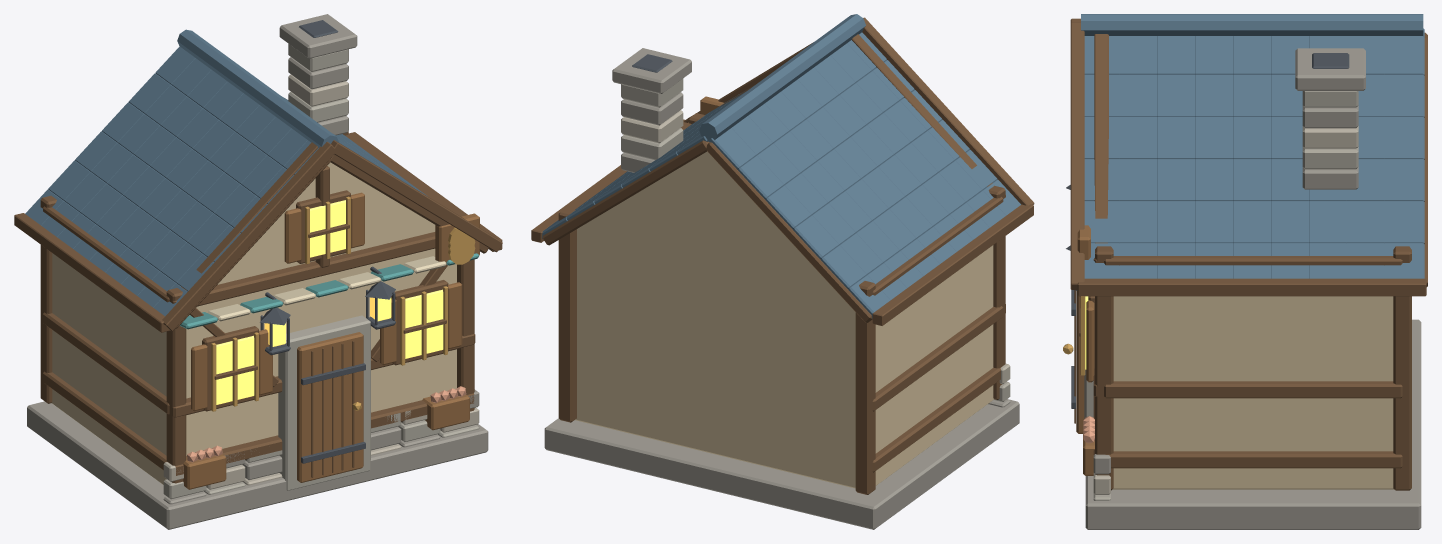
File: shop.glb
3 views of the same model, side by side, from view 1: azimuth 30°, elevation 25°; view 2: azimuth 150°, elevation 25°; view 3: azimuth 270°, elevation 25° (orthographic). The views are drawn at different scales.
Parts seen in each view (by area): view 1: Roof_HV_shop_slate, Structure_HV_shop_plaster, Structure_HV_oak, Facade_HV_door, Structure_HV_stone0, Roof_HV_oak, Facade_HV_amber_glass, Facade_HV_stone1, Facade_HV_oak, Facade_HV_brass, Roof_HV_stone0, Facade_HV_iron (+7 smaller); view 2: Structure_HV_shop_plaster, Roof_HV_shop_slate, Structure_HV_stone0, Structure_HV_oak, Roof_HV_oak, Roof_HV_stone0, Roof_HV_stone1, Roof_HV_stone2; view 3: Roof_HV_shop_slate, Structure_HV_shop_plaster, Structure_HV_oak, Structure_HV_stone0, Roof_HV_oak, Roof_HV_stone0, Facade_HV_door, Roof_HV_stone1, Roof_HV_stone2, Roof_HV_iron, Facade_HV_brass.
Part boxes in pixels (x1=…): Roof_HV_shop_slate: x1=25, y1=29, x2=427, y2=316; Structure_HV_shop_plaster: x1=52, y1=162, x2=456, y2=484; Structure_HV_oak: x1=40, y1=131, x2=475, y2=483; Facade_HV_door: x1=183, y1=192, x2=479, y2=489; Structure_HV_stone0: x1=27, y1=389, x2=488, y2=529; Roof_HV_oak: x1=14, y1=132, x2=502, y2=332; Facade_HV_amber_glass: x1=216, y1=200, x2=443, y2=404; Facade_HV_stone1: x1=278, y1=315, x2=370, y2=490; Facade_HV_oak: x1=202, y1=190, x2=448, y2=477; Facade_HV_brass: x1=211, y1=196, x2=475, y2=411; Roof_HV_stone0: x1=279, y1=14, x2=357, y2=135; Facade_HV_iron: x1=260, y1=266, x2=395, y2=463; Structure_HV_shop_plaster: x1=575, y1=151, x2=993, y2=488; Roof_HV_shop_slate: x1=542, y1=14, x2=1020, y2=318; Structure_HV_stone0: x1=544, y1=399, x2=1019, y2=529; Structure_HV_oak: x1=558, y1=34, x2=1005, y2=494; Roof_HV_oak: x1=531, y1=17, x2=1034, y2=325; Roof_HV_stone0: x1=612, y1=48, x2=691, y2=172; Roof_HV_stone1: x1=621, y1=78, x2=683, y2=160; Roof_HV_stone2: x1=621, y1=110, x2=683, y2=143; Roof_HV_shop_slate: x1=1081, y1=14, x2=1424, y2=278; Structure_HV_shop_plaster: x1=1112, y1=296, x2=1393, y2=489; Structure_HV_oak: x1=1093, y1=34, x2=1411, y2=490; Structure_HV_stone0: x1=1085, y1=319, x2=1421, y2=529; Roof_HV_oak: x1=1070, y1=18, x2=1427, y2=296; Roof_HV_stone0: x1=1295, y1=48, x2=1365, y2=189; Facade_HV_door: x1=1076, y1=225, x2=1094, y2=475; Roof_HV_stone1: x1=1302, y1=91, x2=1358, y2=169; Roof_HV_stone2: x1=1302, y1=126, x2=1358, y2=148; Roof_HV_iron: x1=1312, y1=53, x2=1349, y2=68; Facade_HV_brass: x1=1063, y1=296, x2=1085, y2=375.
Bounding box in the file's own units: 3.51 × 3.58 × 2.74.
